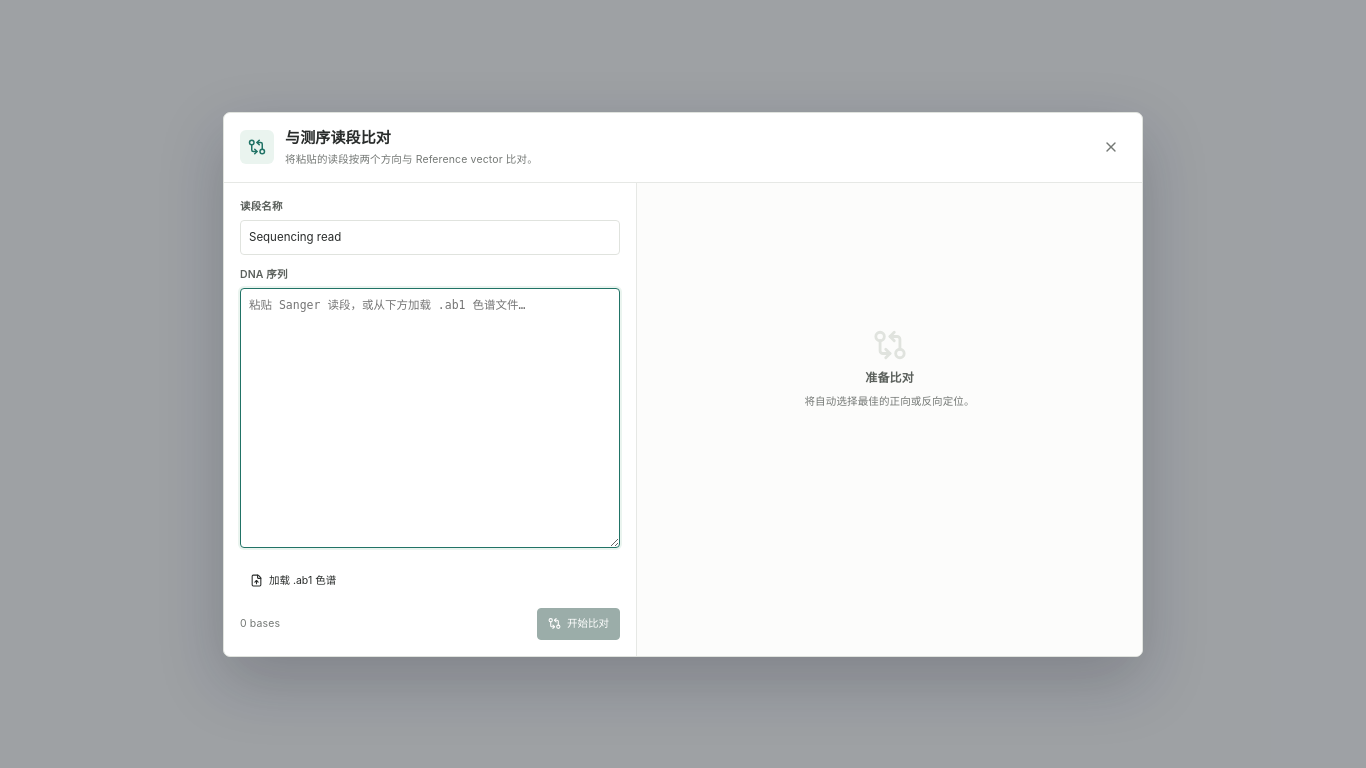
Test: SequenceVerificationDialog › aligns a pasted read and shows a review summary
This screenshot has width=1366, height=768.
Type "CCCGGGG" into the text box labelled "DNA 序列".
click(430, 418); type("CCCGGGG")  # box [240,288,620,548]
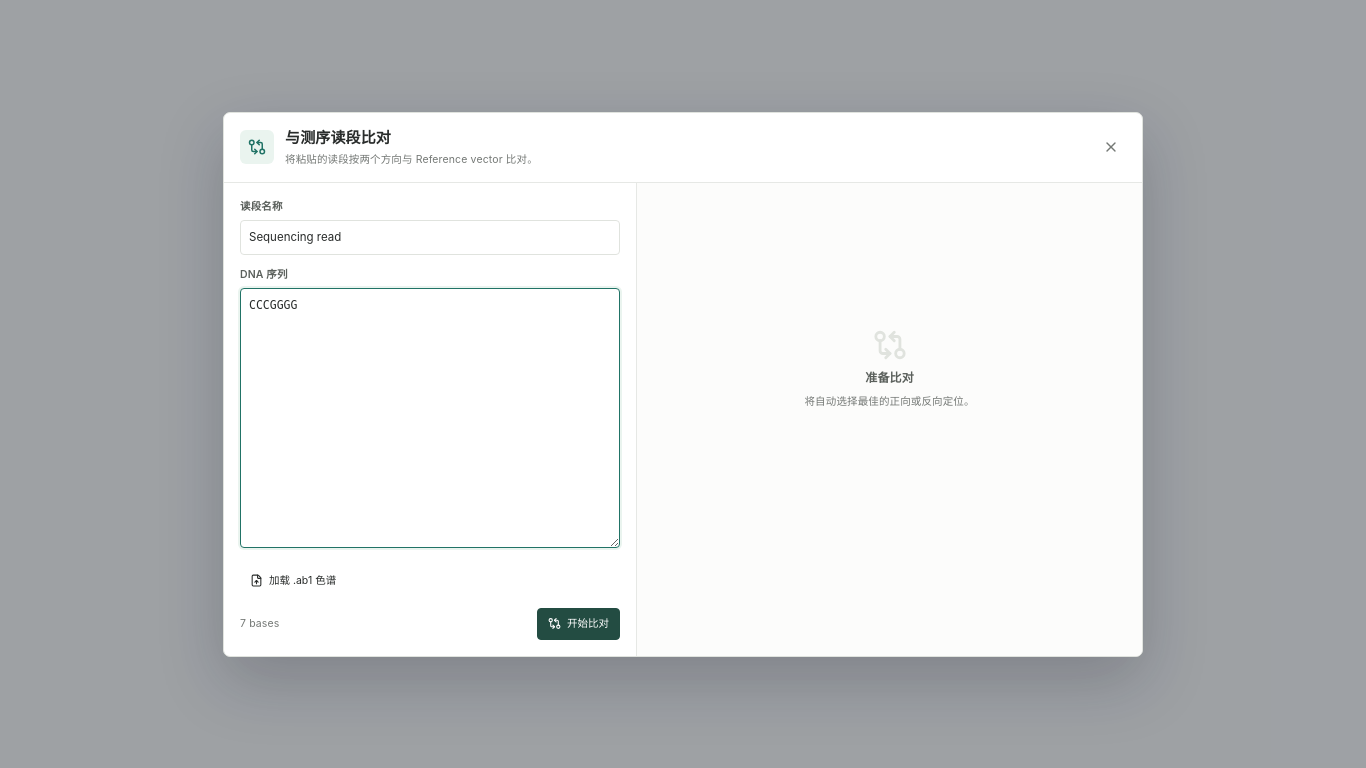
Click the button "开始比对".
click(579, 624)  # box [537,608,620,640]
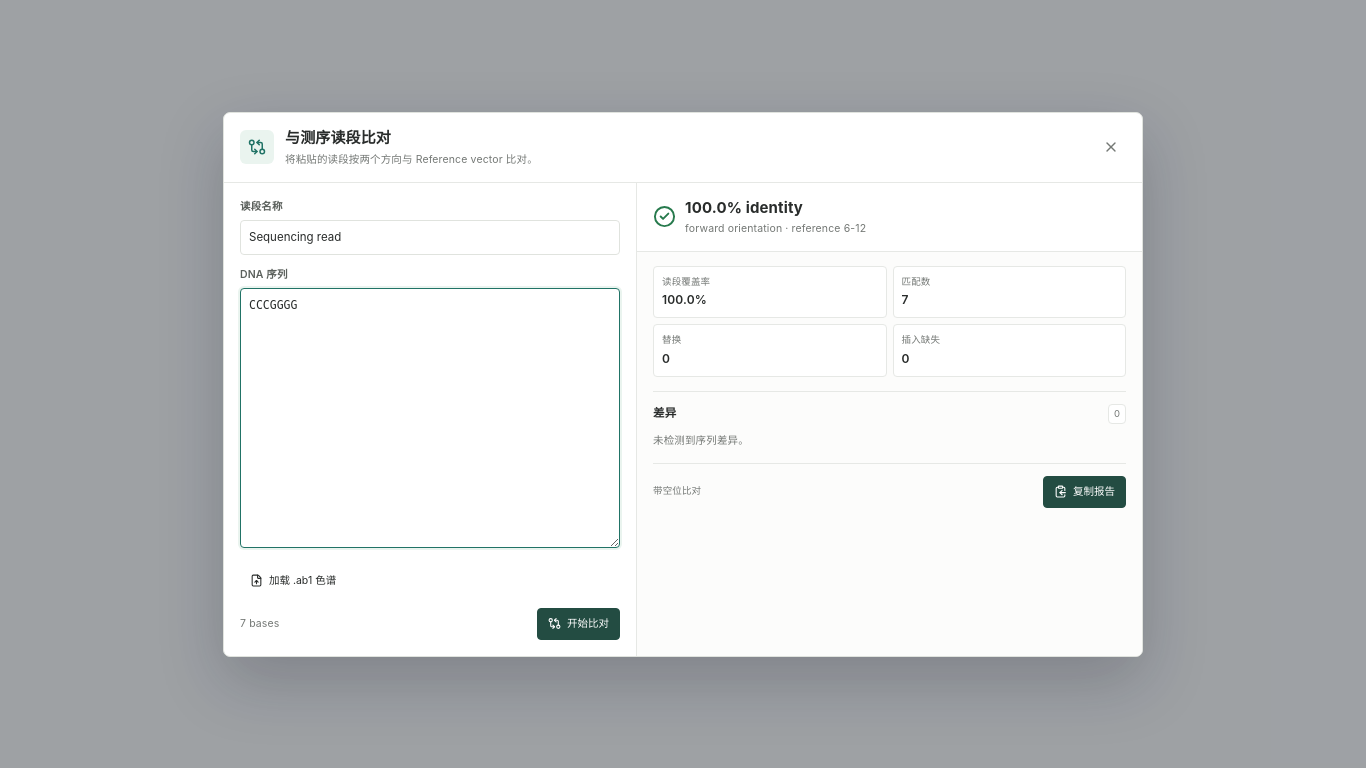
Now the text "100.0% identity" is shown, box [685,198,803,217]
Now the text "forward orientation · reference 6-12" is shown, box [685,222,866,235]
Now the text "未检测到序列差异。" is shown, box [653,434,749,447]
